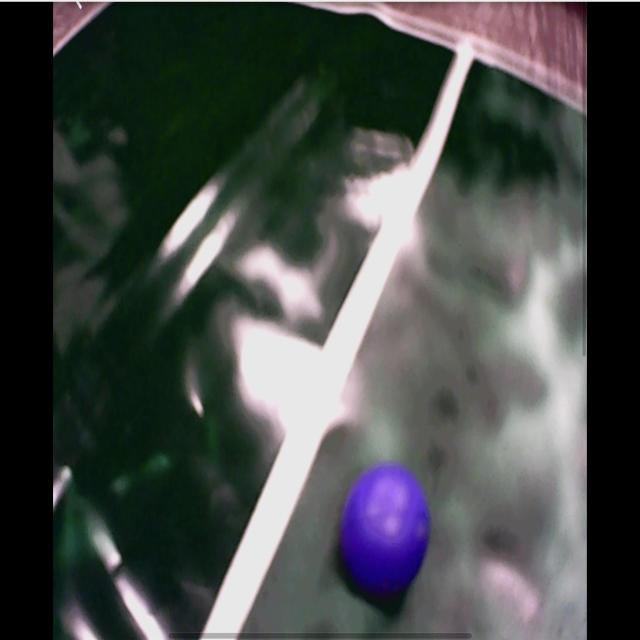ball: (345, 466, 430, 589)
